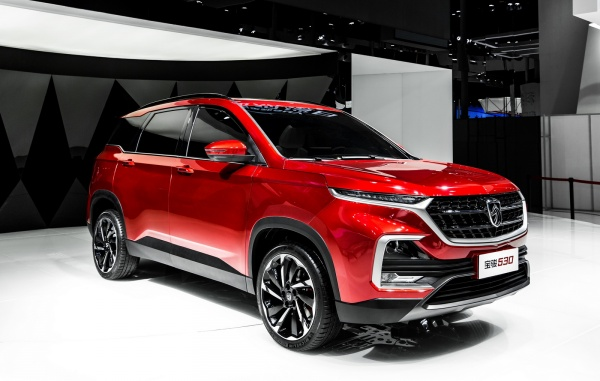pickup: (85, 91, 535, 354)
